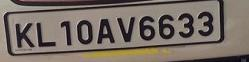0: (74, 18, 92, 44)
1: (58, 18, 74, 46)
3: (175, 11, 194, 39), (196, 9, 213, 37)
6: (137, 13, 156, 41), (157, 12, 175, 40)
A: (95, 17, 115, 43)
K: (13, 20, 35, 48)
L: (33, 20, 57, 46)
V: (113, 14, 135, 42)
